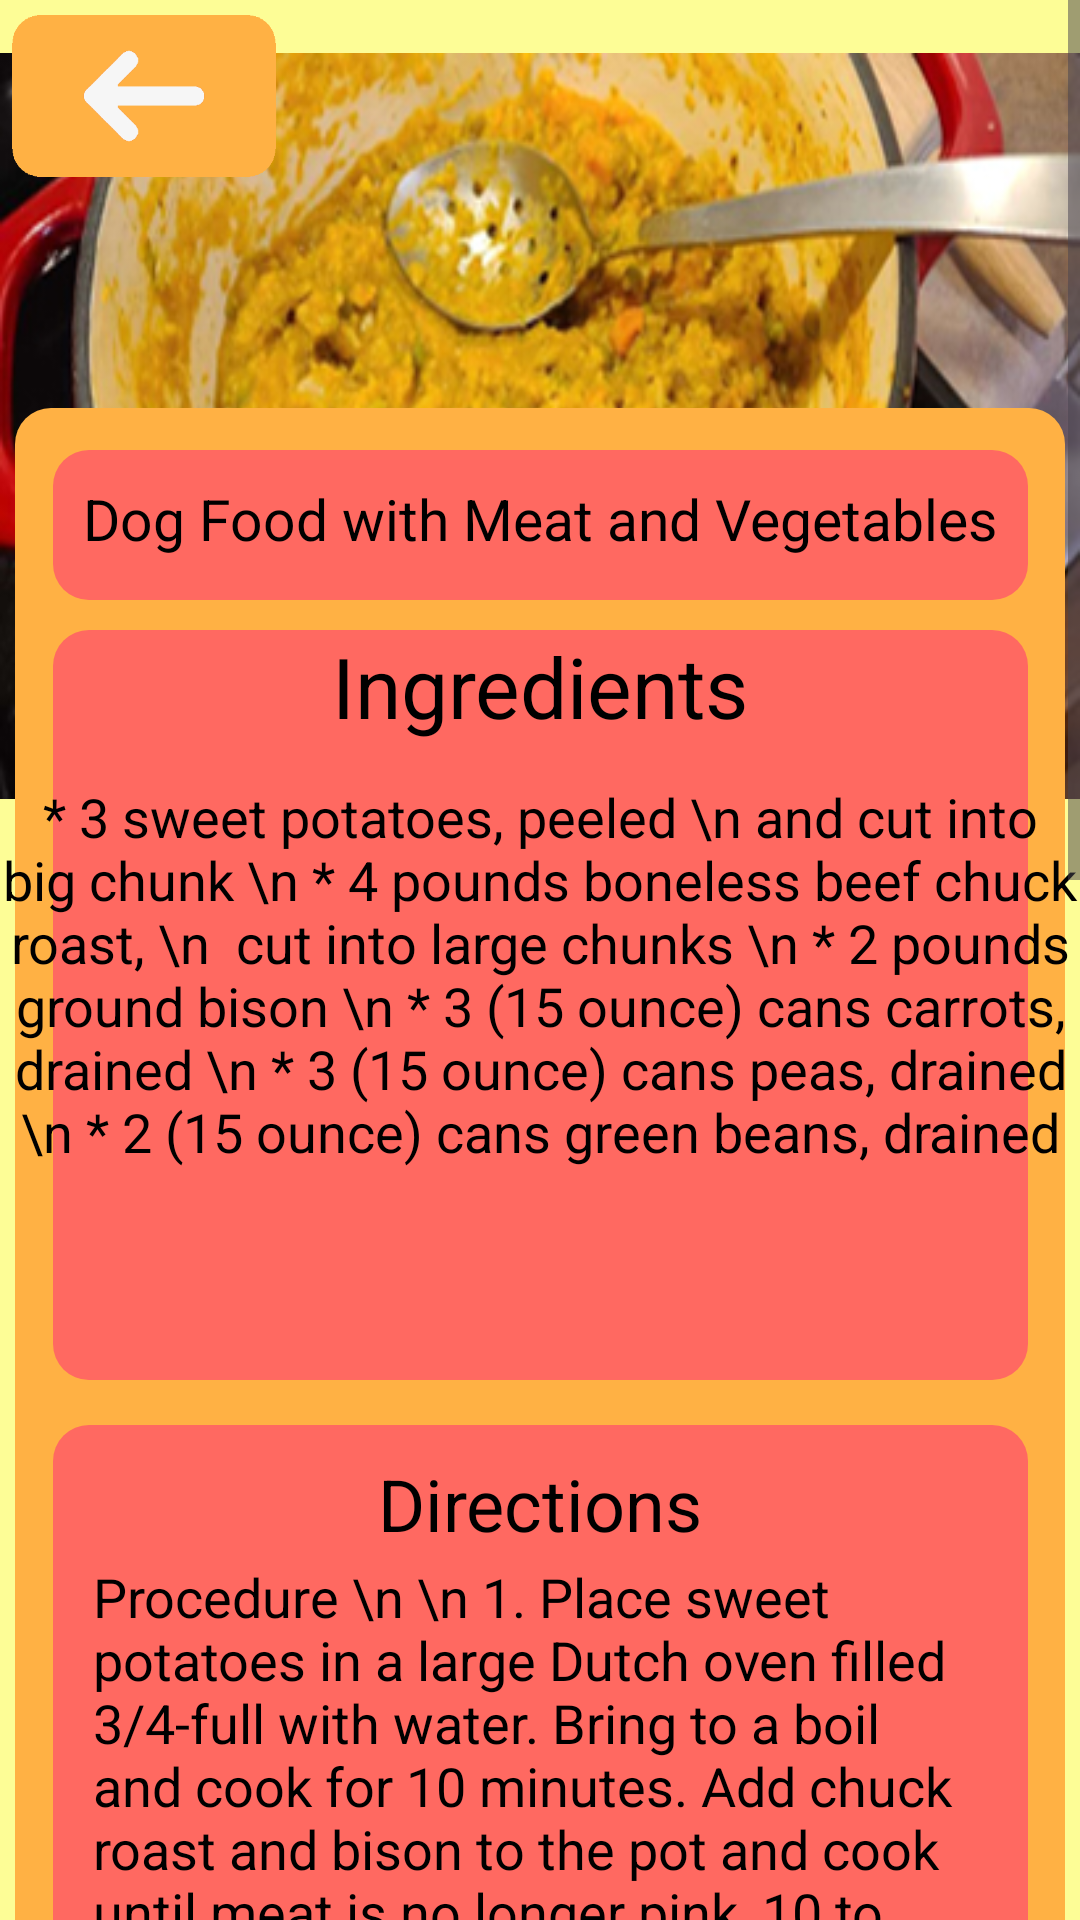

Icon click points for this 1080px x 1920px phone screenshot, format (x,y):
backred: (144,96)
